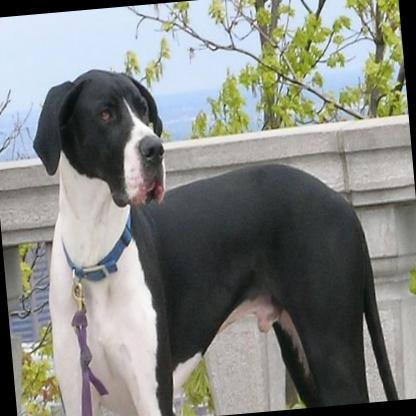Great_Dane: (25, 44, 399, 416)
